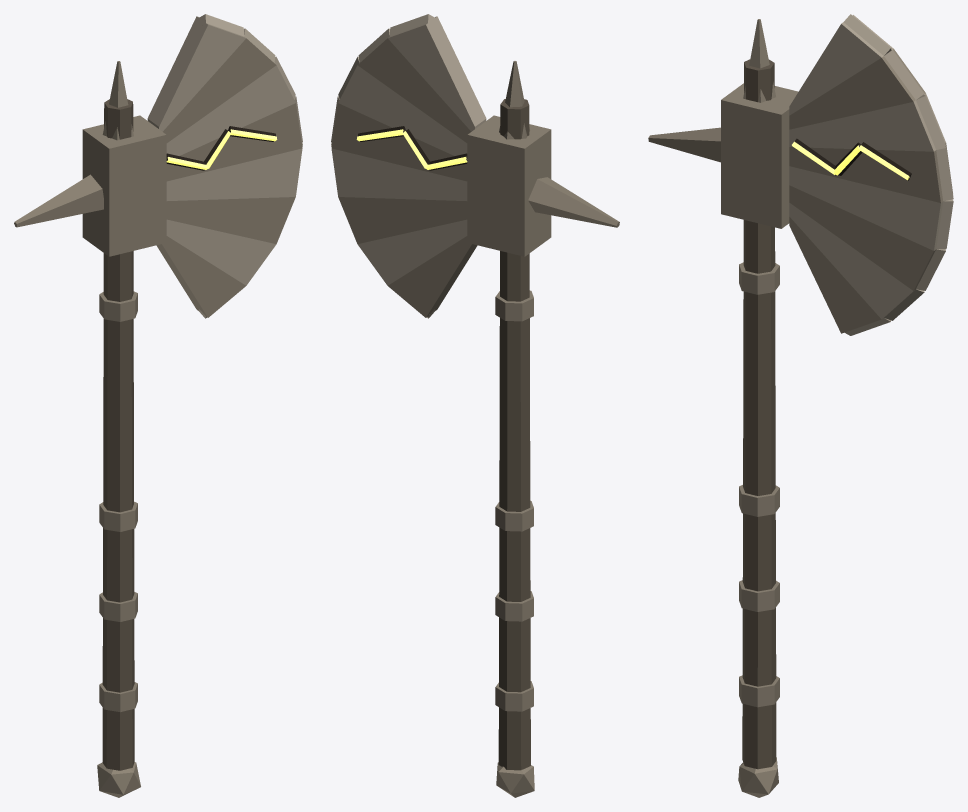
File: champion_stone_axe.glb
The picture shows the model from 3 angles, left to right: view 1: azimuth 30°, elevation 25°; view 2: azimuth 150°, elevation 25°; view 3: azimuth 330°, elevation 25°; orthographic projection. The views are drawn at different scales.
Parts seen in each view (by area): view 1: champion_stone_axe; view 2: champion_stone_axe; view 3: champion_stone_axe.
Boxes of the visible parts, x1,y1,x2,y2 form: champion_stone_axe: (14,14,302,797); champion_stone_axe: (331,14,619,797); champion_stone_axe: (648,14,953,797).
Size of the model in its own units: 1 by 2.54 by 0.16.
